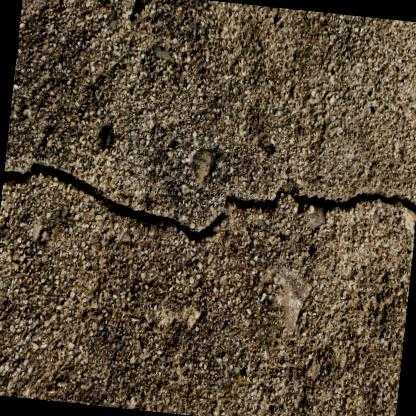crack: (2, 161, 416, 239)
